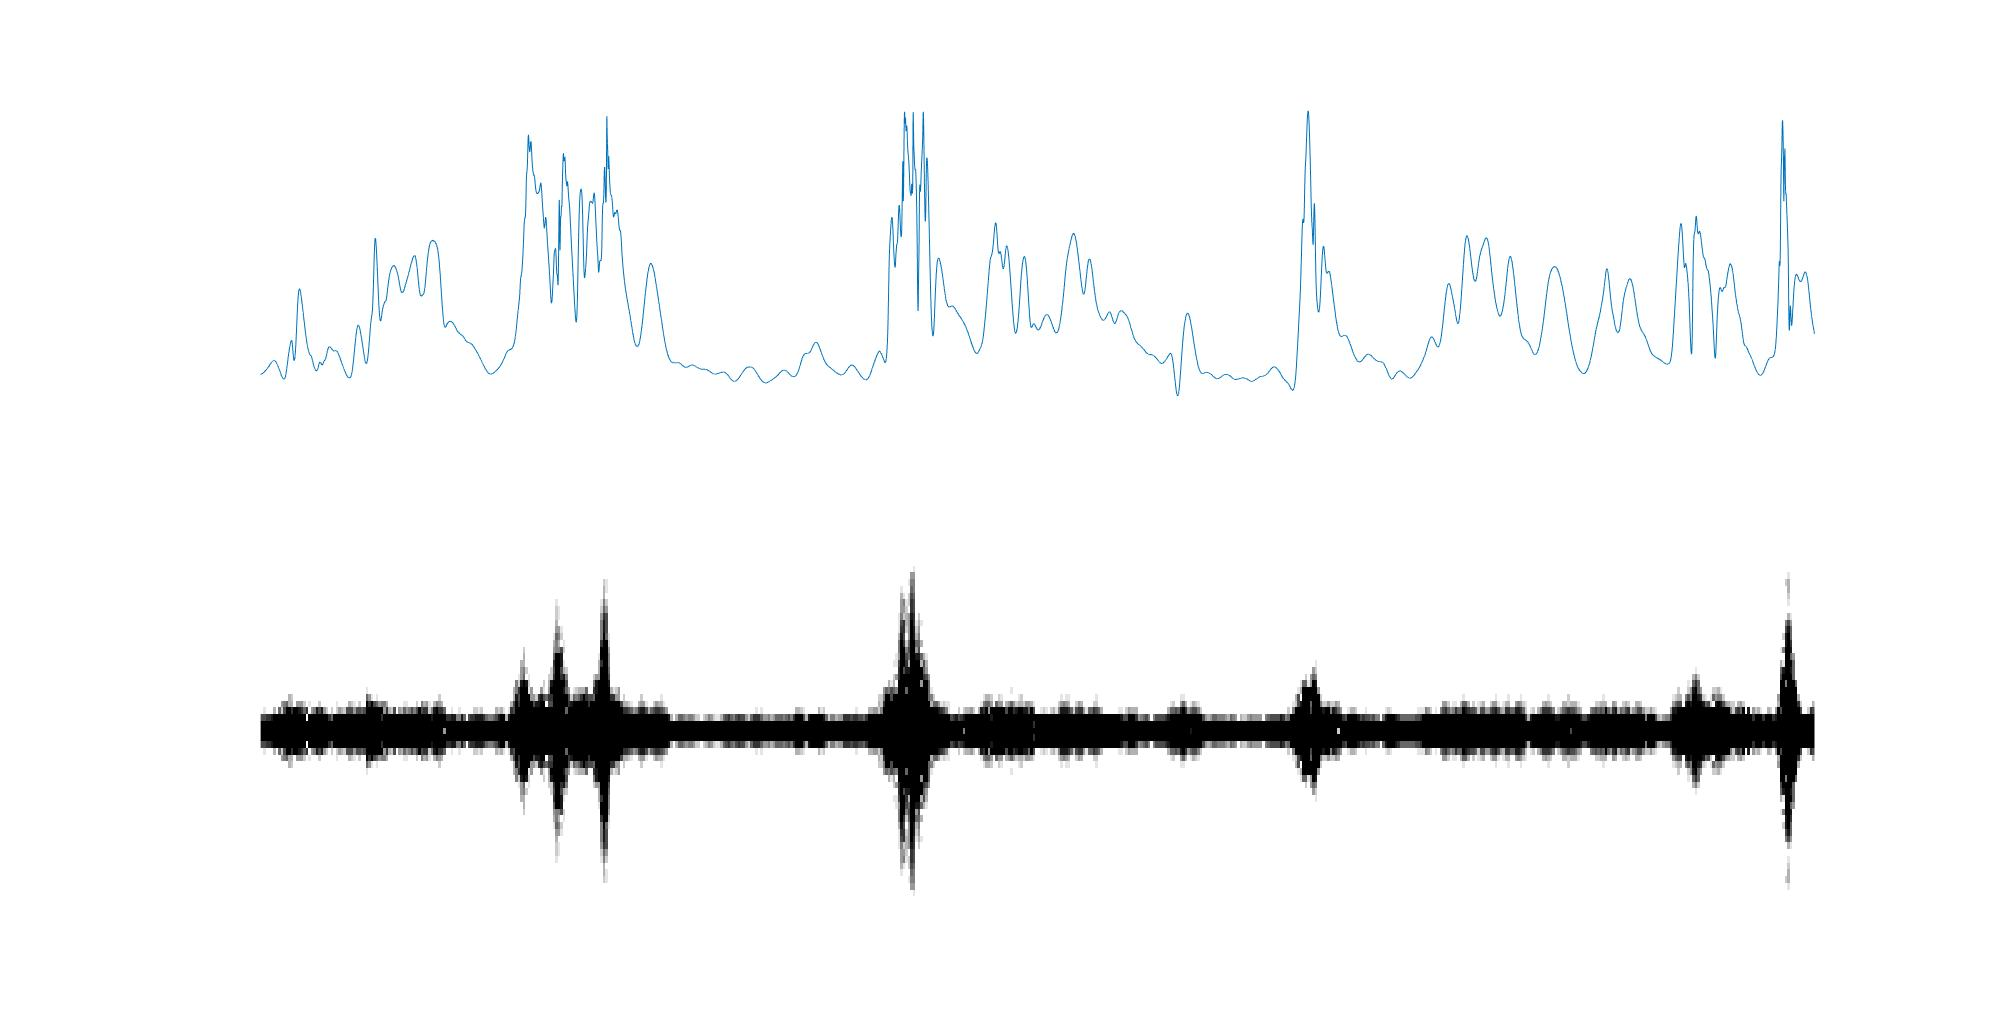spot: (886, 565, 936, 895), (1774, 584, 1806, 879), (592, 581, 618, 872)
